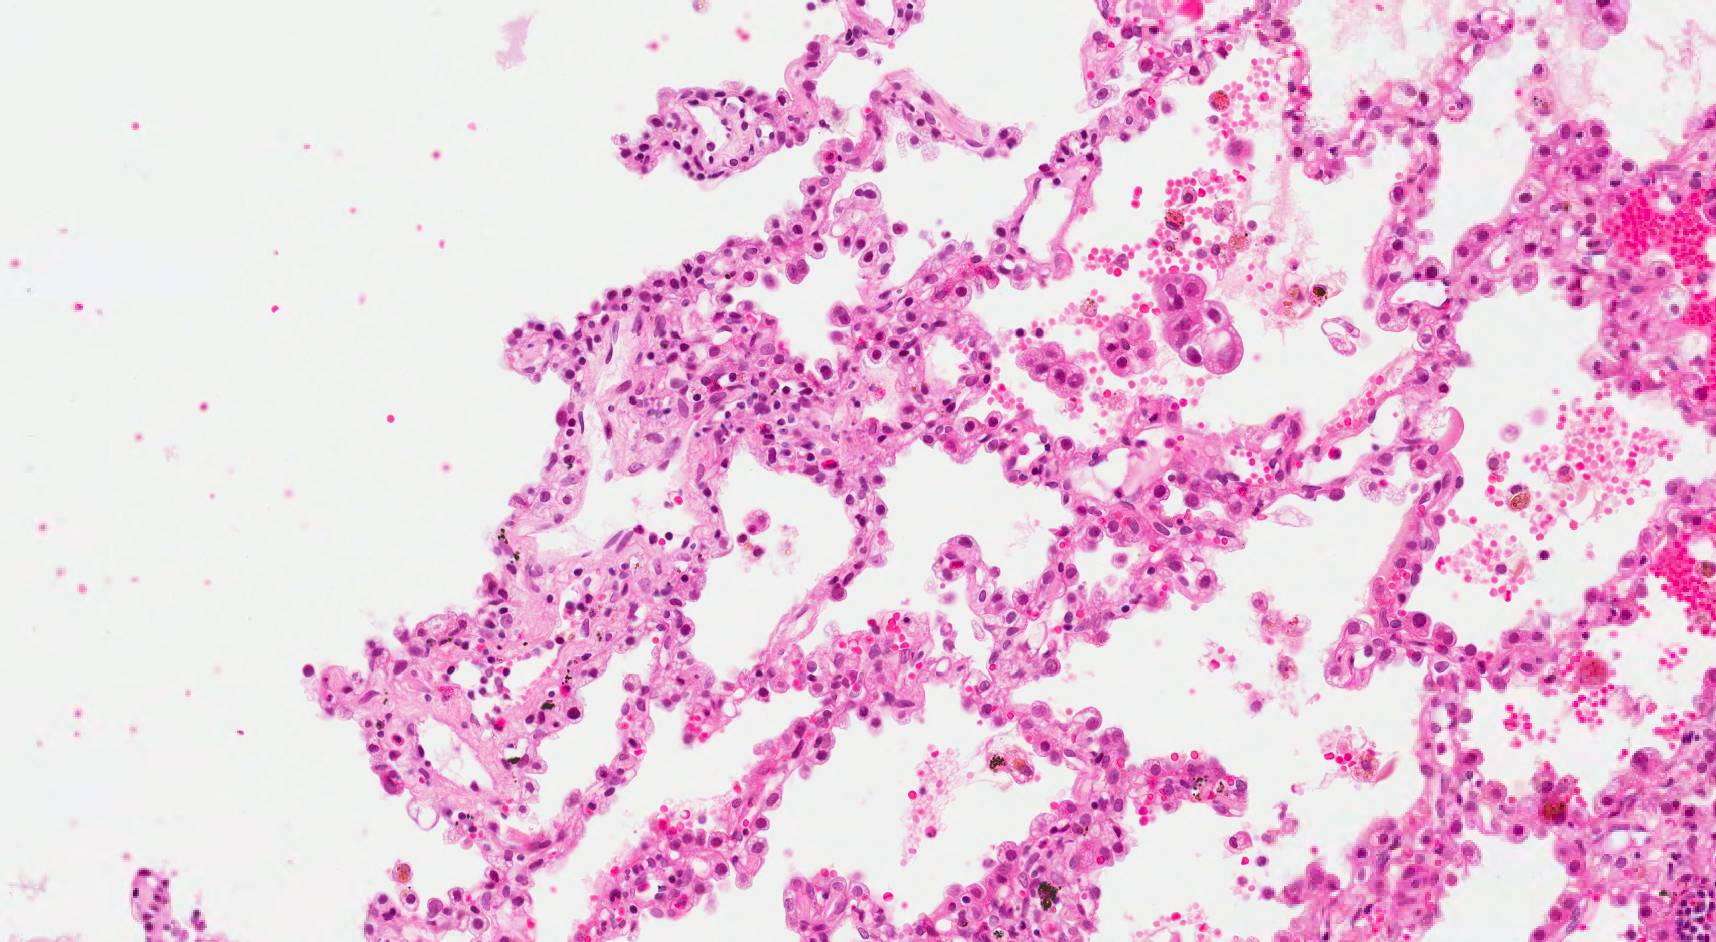stas: (1154, 271, 1246, 377), (1014, 337, 1090, 398), (1100, 313, 1160, 378)
